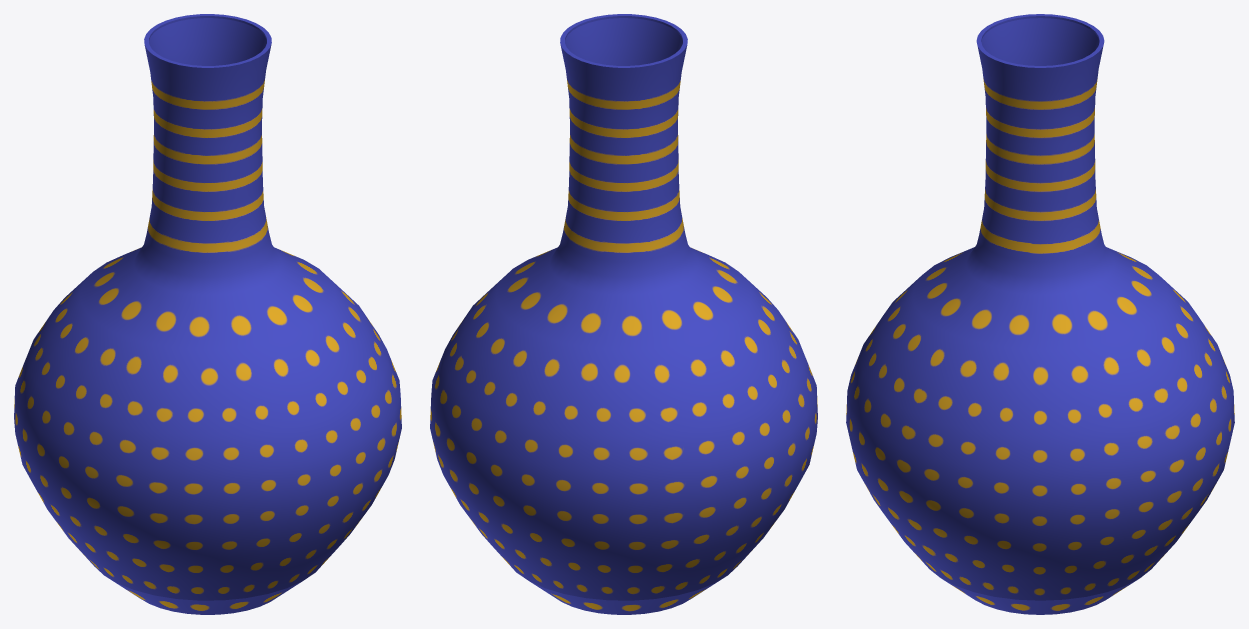
The model's file is Vaso.fbx.
The picture shows the model from 3 angles, left to right: view 1: azimuth 30°, elevation 25°; view 2: azimuth 150°, elevation 25°; view 3: azimuth 270°, elevation 25°; orthographic projection.
Visible parts, largest first — view 1: Cylinder; view 2: Cylinder; view 3: Cylinder.
Boxes of the visible parts, x1=… form: Cylinder: x1=14, y1=14, x2=401, y2=614; Cylinder: x1=430, y1=14, x2=817, y2=614; Cylinder: x1=846, y1=14, x2=1234, y2=614.
Bounding box in the file's own units: 170 × 260 × 170.
1 material, 1 textured.
